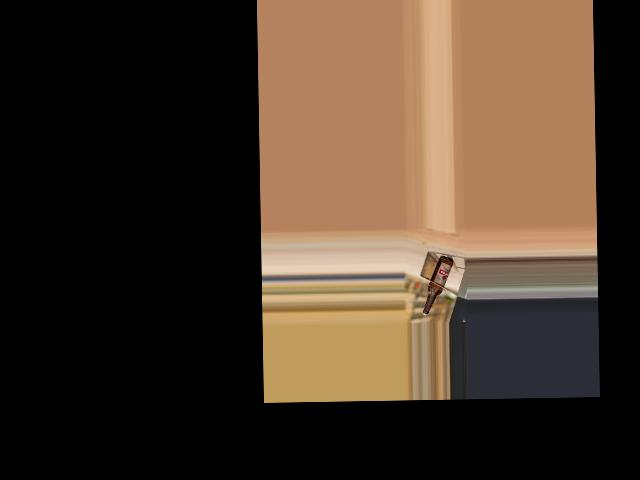beer: (421, 255, 455, 316)
